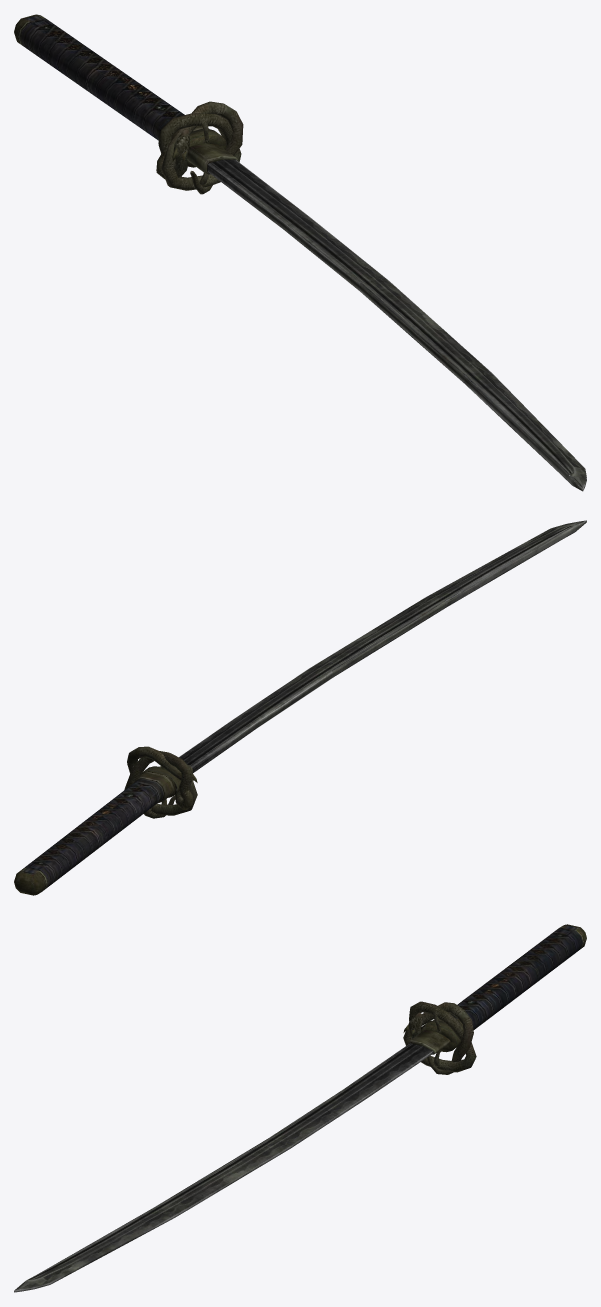
File: blades-sword.glb
The picture shows the model from 3 angles, top to bottom: view 1: azimuth 30°, elevation 25°; view 2: azimuth 150°, elevation 25°; view 3: azimuth 330°, elevation 25°; orthographic projection. The views are drawn at different scales.
Visible parts, largest first — view 1: AkaviriKatana:0; view 2: AkaviriKatana:0; view 3: AkaviriKatana:0.
Part boxes in pixels (x1,y1,x2,y2): AkaviriKatana:0: (14,14,586,491); AkaviriKatana:0: (14,520,586,895); AkaviriKatana:0: (14,924,586,1292).
Size of the model in its own units: 0.1001 by 0.0753 by 0.98.
1 material, 1 textured.
